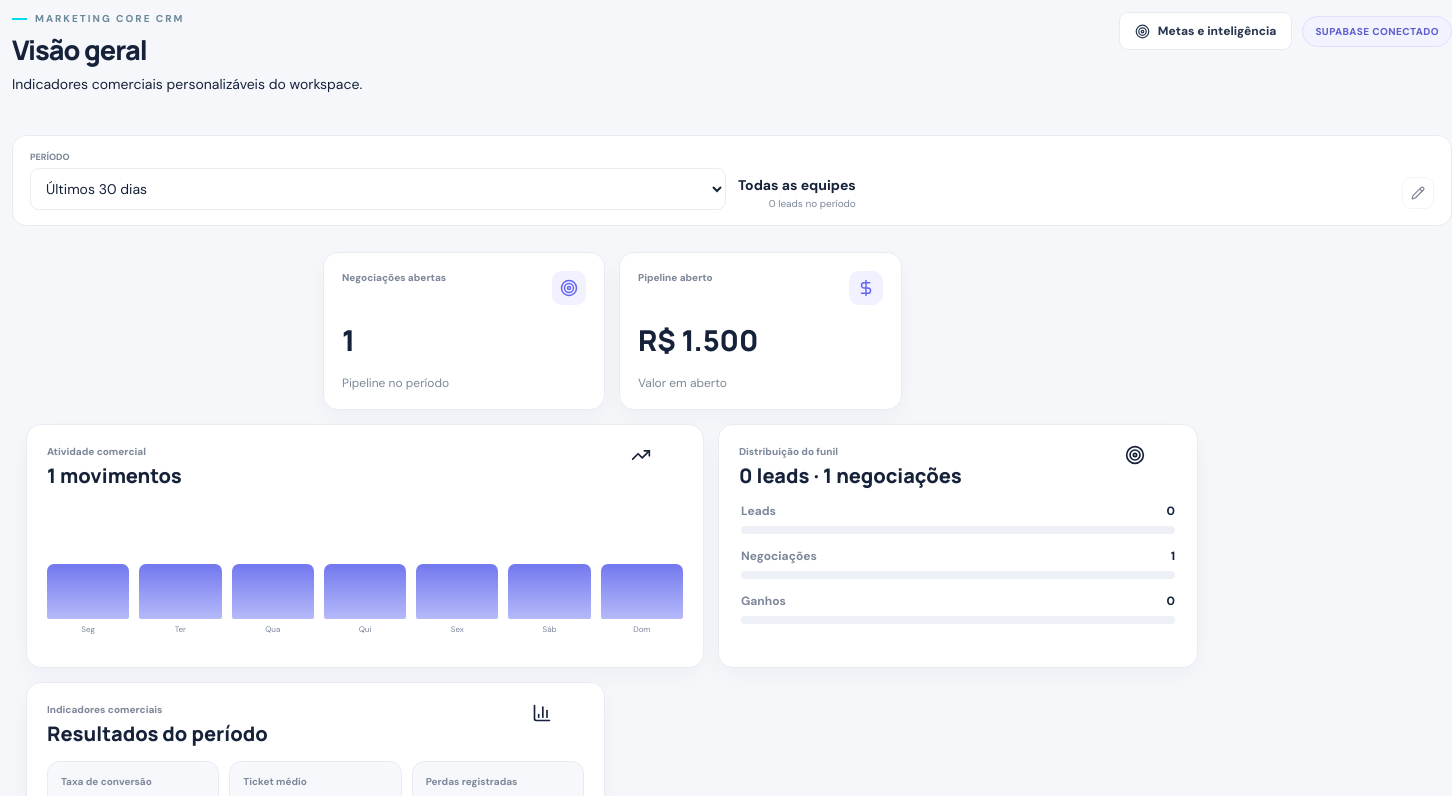
it: dashboard card editor › does not carry fixed zero-data cards into another workspace
The width and height of the screenshot is (1452, 796).
Select "Período personalizado" in the dropdown named "Período da visão geral" at (378, 189), box x1=30 y1=168 x2=726 y2=210
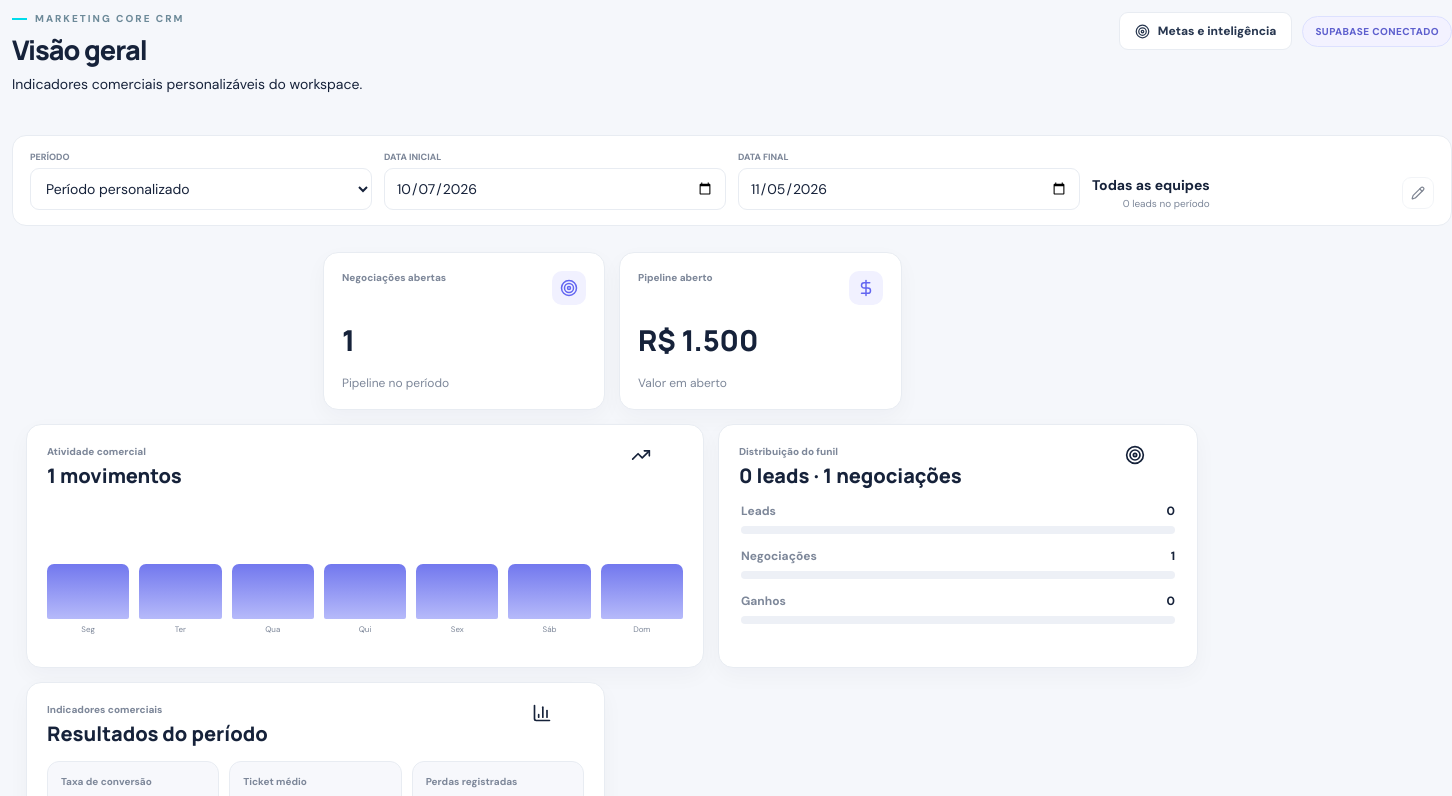
Type "2026-10-01" into the date field labelled "Data inicial".
click(555, 189); type("2026-10-01")  # box x1=384 y1=168 x2=726 y2=210
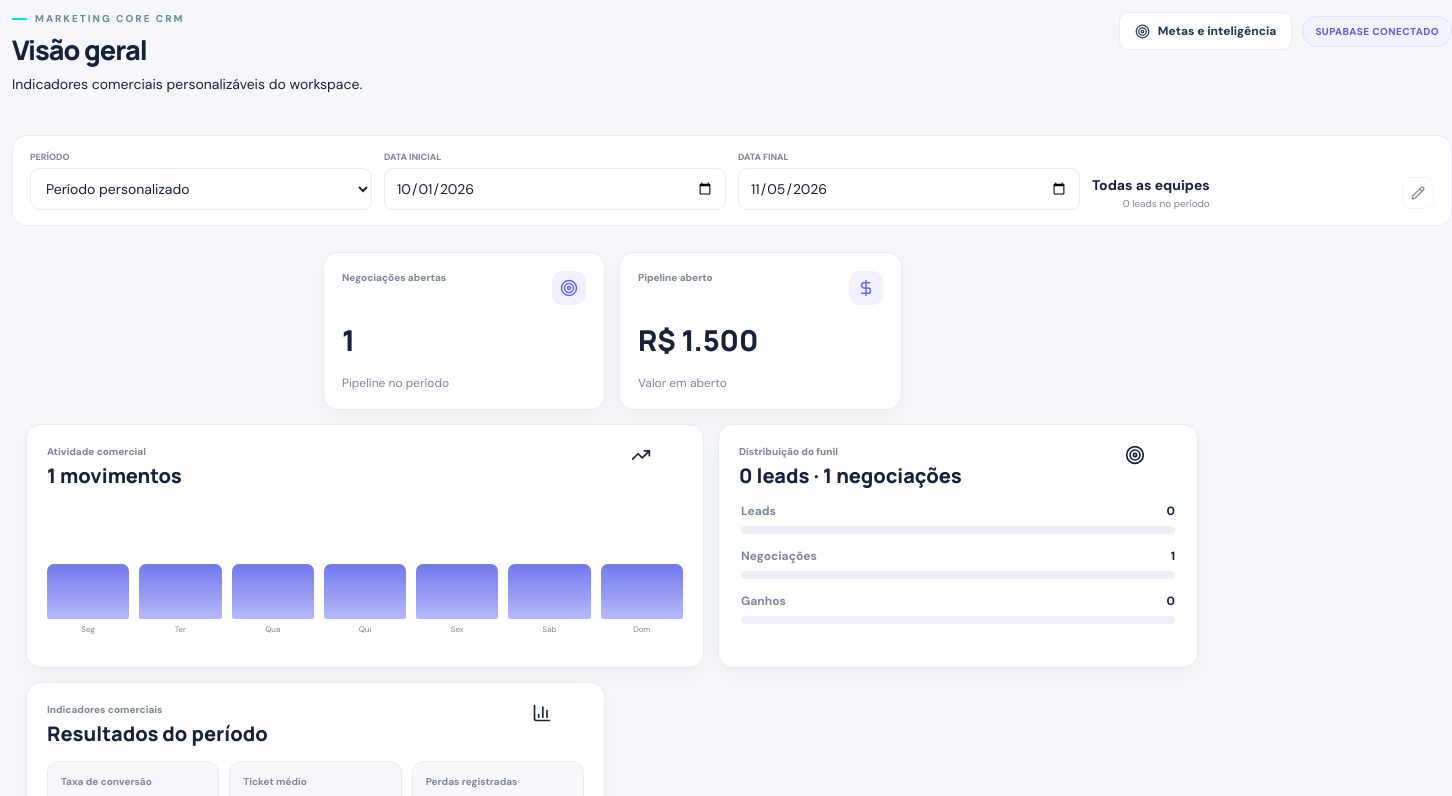
Type "2026-10-31" into the date field labelled "Data final".
click(909, 189); type("2026-10-31")  # box x1=738 y1=168 x2=1080 y2=210
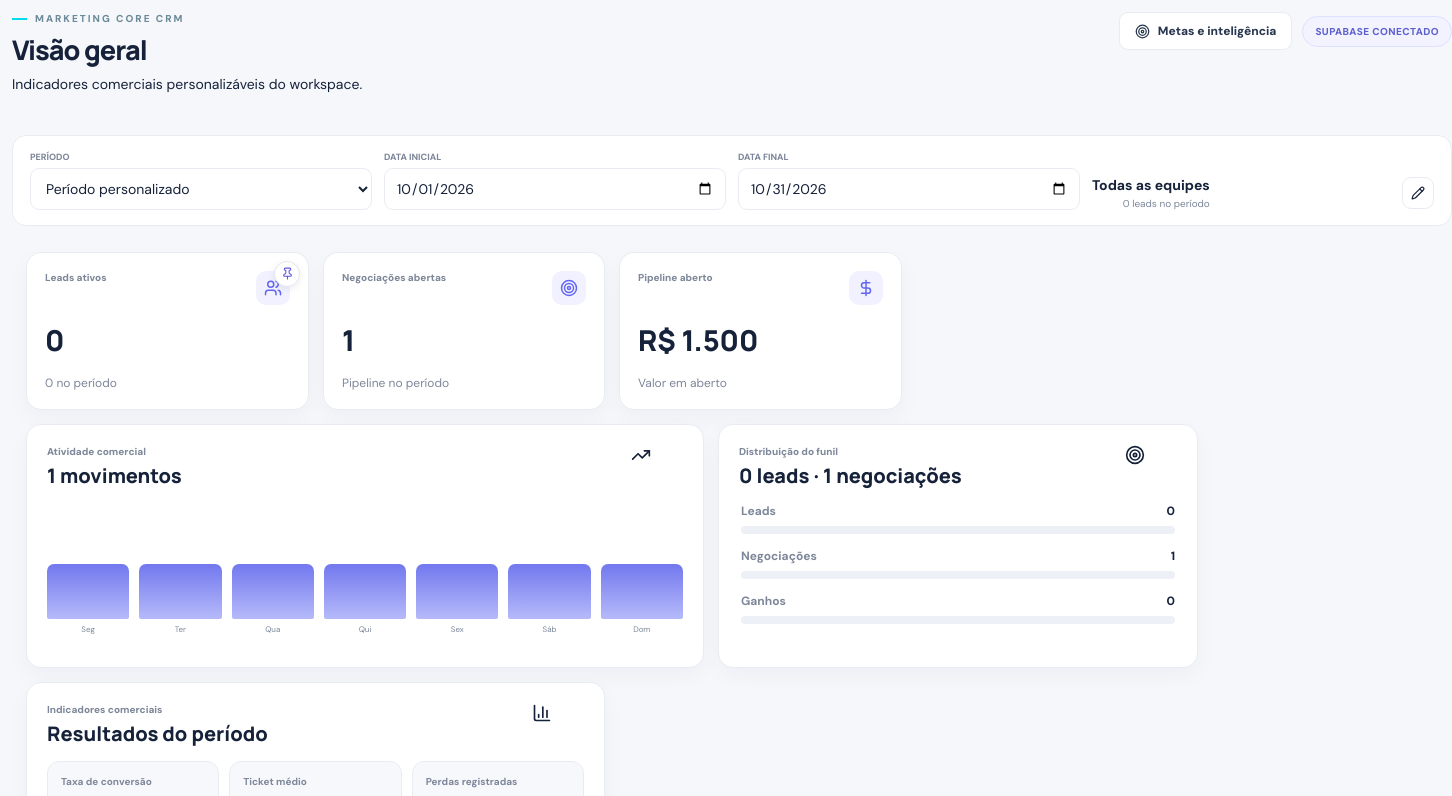
Now the element with test id "dashboard-block-leads" is shown, box x1=26 y1=252 x2=309 y2=410
